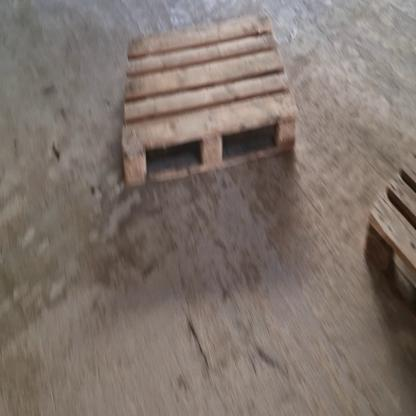BoxFace: (119, 9, 299, 195), (360, 132, 416, 330)
